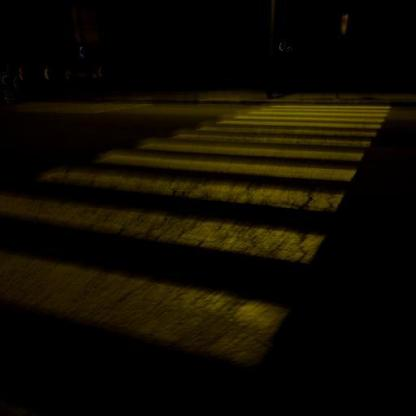crosswalk: (9, 152, 383, 218)
